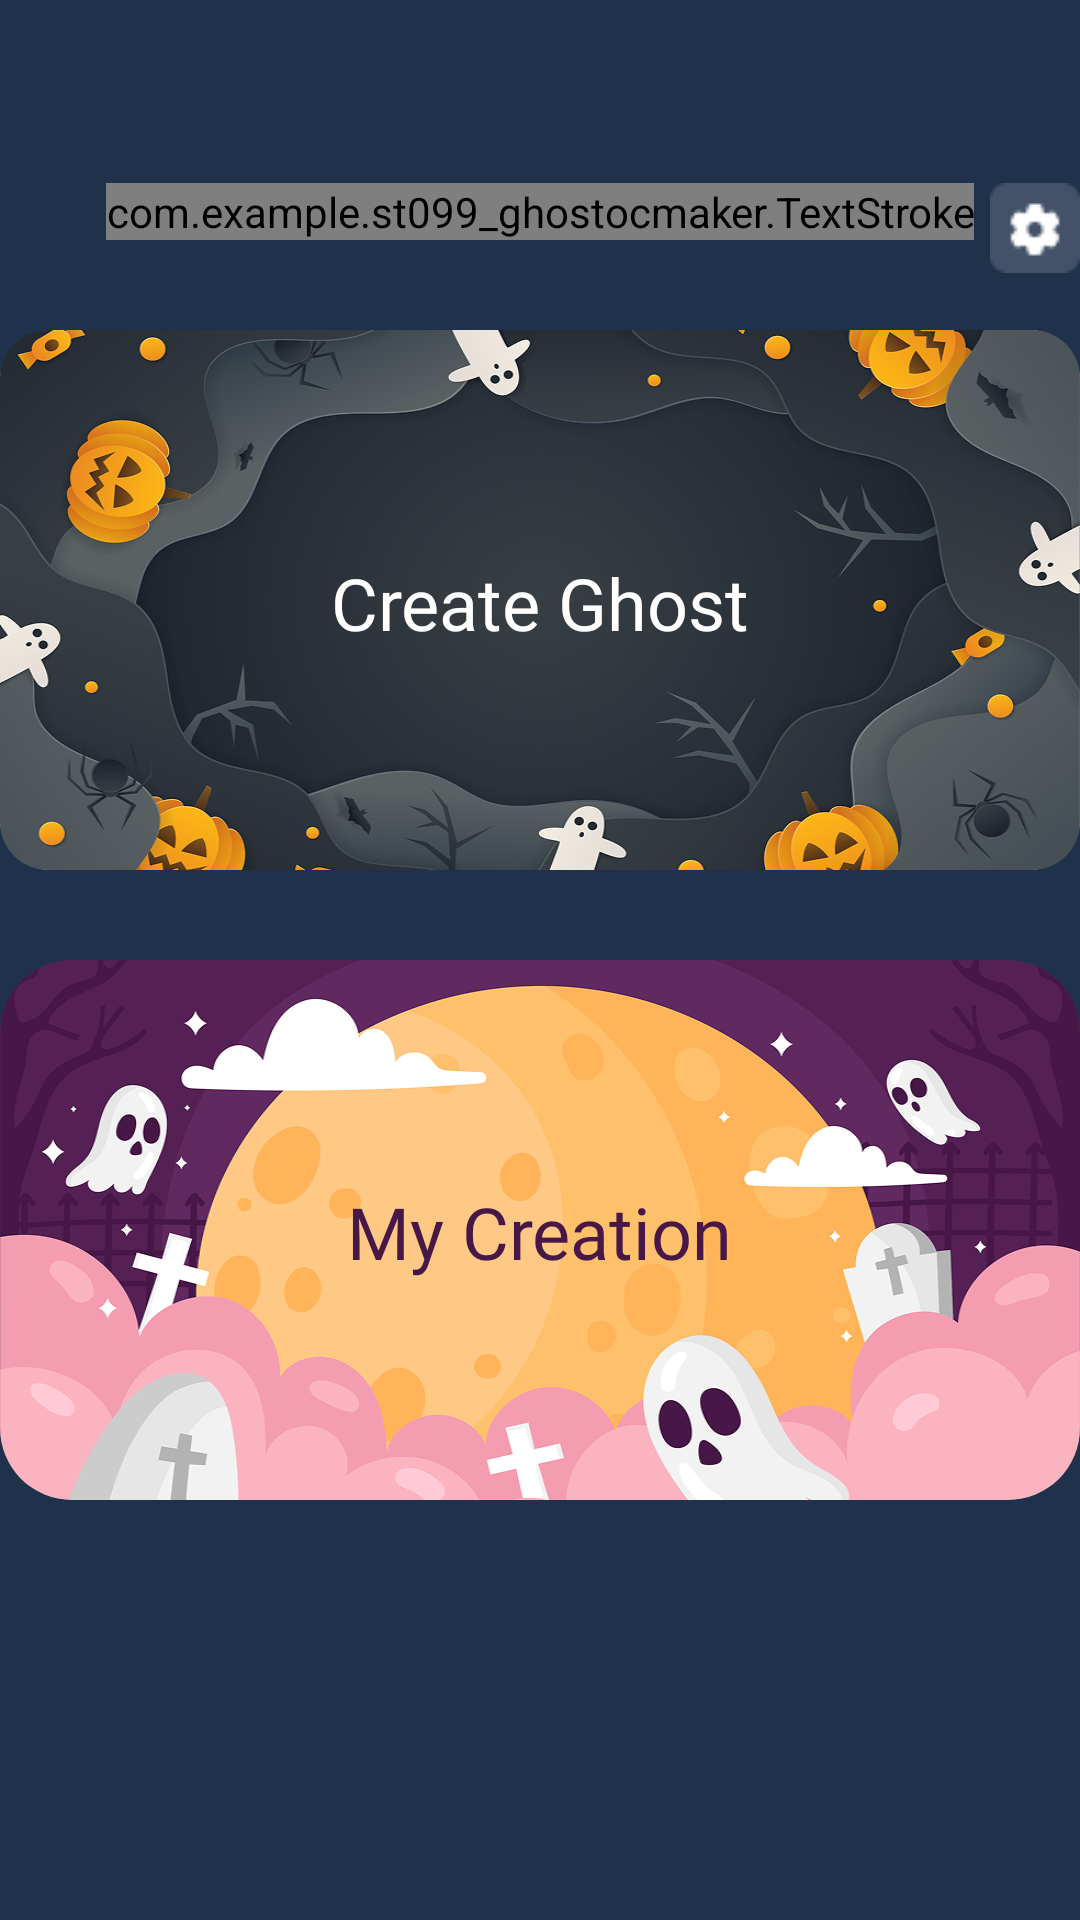

Named icons in this screenshot (1080 x 1920) and their bounding boxes, BBox(x1, y1, x2, y2):
setting: BBox(990, 183, 1080, 273)
